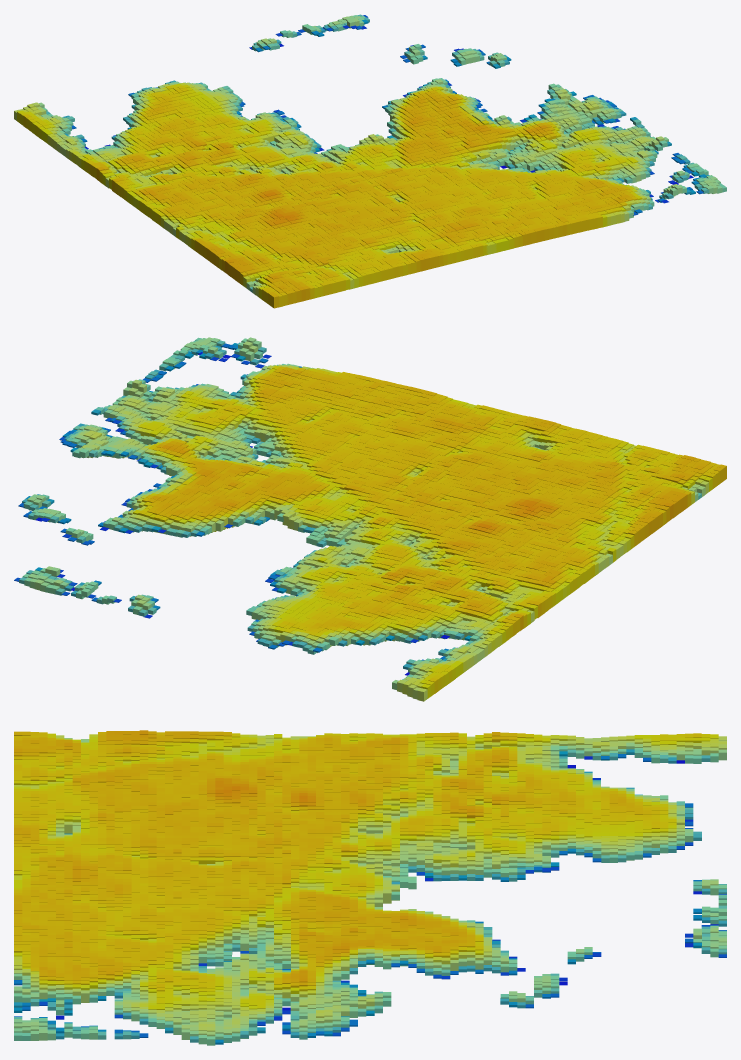
File: population.glb
3 views of the same model, one above another, from view 1: azimuth 30°, elevation 25°; view 2: azimuth 150°, elevation 25°; view 3: azimuth 270°, elevation 25° (orthographic). The views are drawn at different scales.
Visible parts, largest first — view 1: population; view 2: population; view 3: population.
Boxes of the visible parts, <box> form: population: <box>14,14,726,308</box>; population: <box>14,337,726,701</box>; population: <box>14,730,726,1045</box>.
Bounding box in the file's own units: 8535 × 476 × 8477.
